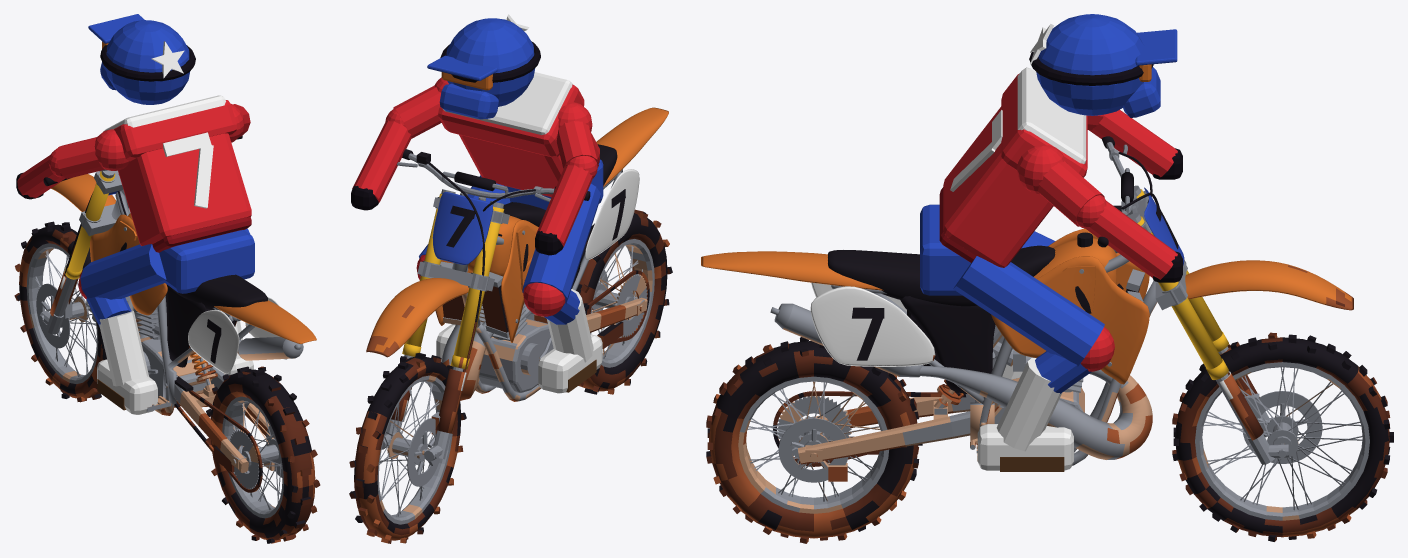
The model's file is piloto.glb.
The picture shows the model from 3 angles, left to right: view 1: azimuth 30°, elevation 25°; view 2: azimuth 150°, elevation 25°; view 3: azimuth 270°, elevation 25°; orthographic projection. The views are drawn at different scales.
Parts seen in each view (by area): view 1: moto, tronco, pernas, roda_t, roda_f, cabeca; view 2: moto, tronco, roda_f, pernas, roda_t, cabeca; view 3: moto, tronco, roda_t, roda_f, pernas, cabeca.
Boxes of the visible parts, x1=… form: moto: x1=39, y1=135, x2=316, y2=492; tronco: x1=16, y1=95, x2=251, y2=252; pernas: x1=78, y1=228, x2=254, y2=414; roda_t: x1=206, y1=366, x2=320, y2=543; roda_f: x1=14, y1=221, x2=106, y2=402; cabeca: x1=88, y1=14, x2=195, y2=104; moto: x1=366, y1=107, x2=668, y2=461; tronco: x1=351, y1=72, x2=599, y2=255; roda_f: x1=349, y1=353, x2=466, y2=543; pernas: x1=416, y1=159, x2=603, y2=393; roda_t: x1=577, y1=209, x2=672, y2=394; cabeca: x1=427, y1=14, x2=540, y2=119; moto: x1=701, y1=136, x2=1353, y2=481; tronco: x1=939, y1=67, x2=1182, y2=282; roda_t: x1=706, y1=337, x2=922, y2=543; roda_f: x1=1172, y1=332, x2=1393, y2=541; pernas: x1=920, y1=204, x2=1114, y2=471; cabeca: x1=1029, y1=14, x2=1177, y2=117.
Bounding box in the file's own units: 0.8699 × 1.79 × 2.16.
